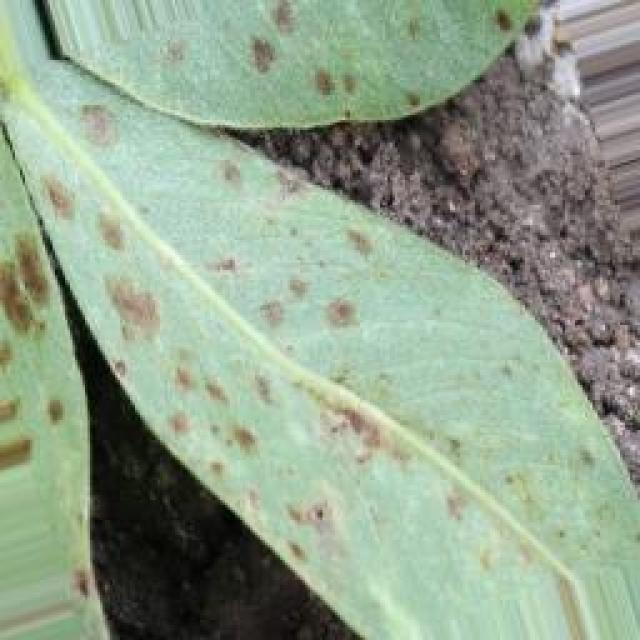Whitefly: (0, 4, 628, 580)
